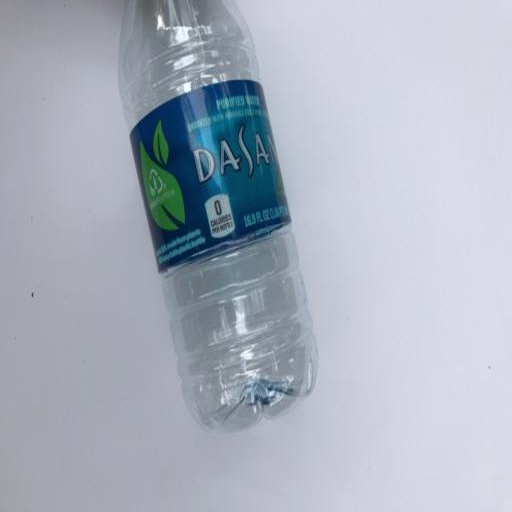Plastic_0: (119, 1, 317, 430)
